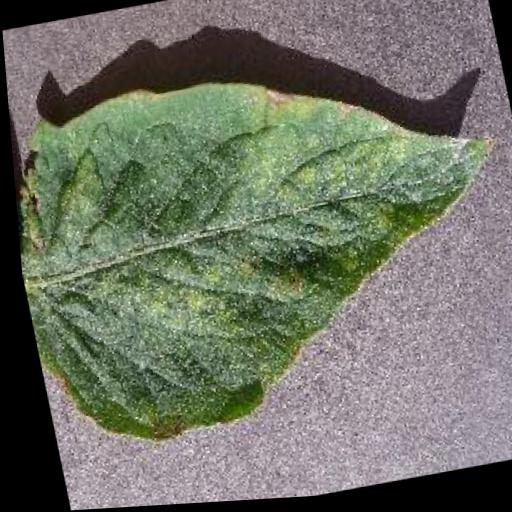Spider Mites: (4, 32, 512, 458)
